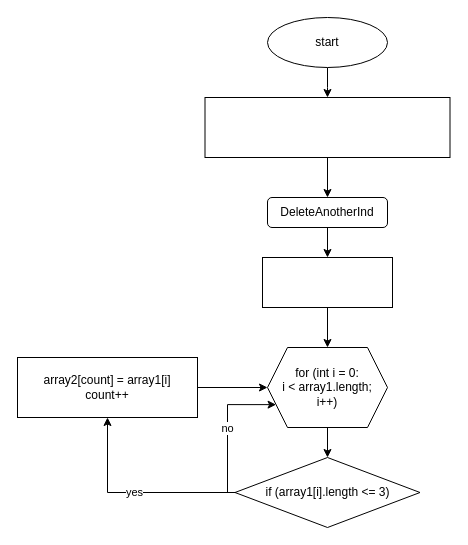
This 468x545 diagram has some shape labels left out. The centre of each missing label's shape, as x and y in pixels:
array1 ["hello", "2", "world", ":-)", "45"]: the point at 327,127
string array1 string array2 int count = 0: the point at 327,282
